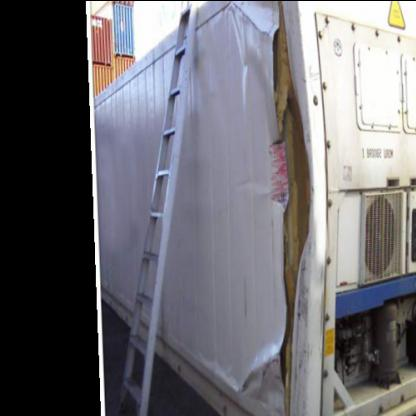Damage: (232, 6, 354, 414)
